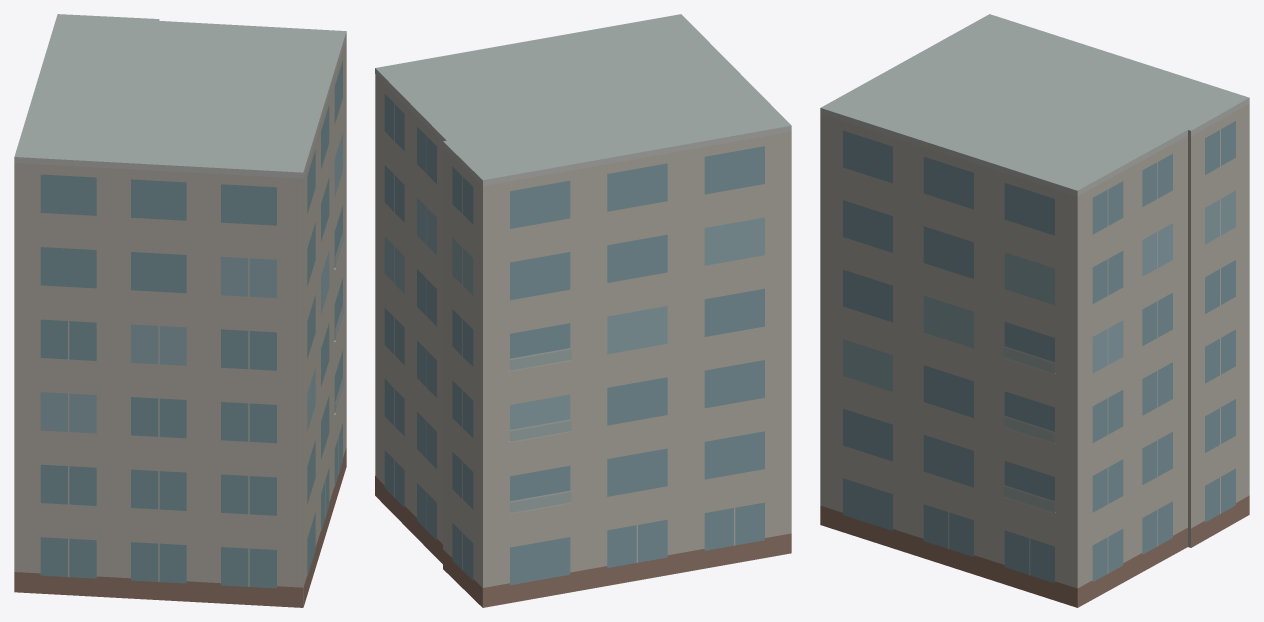
Rendered from survey-upis-32713166.glb.
3 renders of one model, left to right at view 1: azimuth 30°, elevation 25°; view 2: azimuth 150°, elevation 25°; view 3: azimuth 270°, elevation 25°, orthographic. The views are drawn at different scales.
Parts seen in each view (by area): view 1: survey-upis-32713166.tmp; view 2: survey-upis-32713166.tmp; view 3: survey-upis-32713166.tmp.
Part boxes in pixels (x1=…): survey-upis-32713166.tmp: x1=14, y1=14, x2=346, y2=607; survey-upis-32713166.tmp: x1=375, y1=14, x2=791, y2=607; survey-upis-32713166.tmp: x1=820, y1=14, x2=1249, y2=607.
Size of the model in its own units: 16.28 by 17.9 by 16.7.
